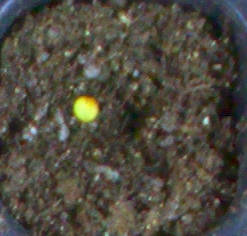chilli seed: (72, 95, 98, 123)
